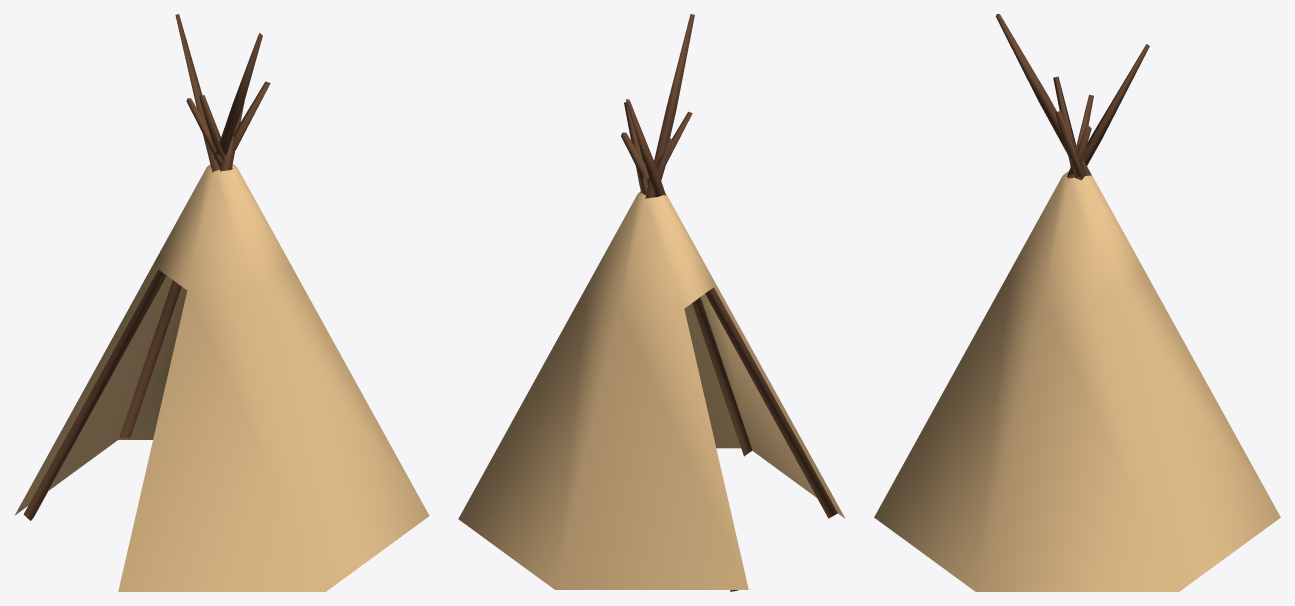
The model's file is SurvivalTipiV2.fbx.
3 views of the same model, side by side, from view 1: azimuth 30°, elevation 25°; view 2: azimuth 150°, elevation 25°; view 3: azimuth 270°, elevation 25° (orthographic). The views are drawn at different scales.
Visible parts, largest first — view 1: Cone, Cylinder.006, Cylinder.005, Cylinder.002; view 2: Cone, Cylinder.007, Cylinder.002, Cylinder.005; view 3: Cone, Cylinder.005, Cylinder.002, Cylinder.006.
Boxes of the visible parts, x1,y1,x2,y2 form: Cone: [14, 164, 429, 591]; Cylinder.006: [23, 81, 270, 520]; Cylinder.005: [119, 33, 262, 437]; Cylinder.002: [175, 14, 220, 172]; Cone: [458, 191, 845, 589]; Cylinder.007: [621, 132, 837, 518]; Cylinder.002: [626, 99, 752, 456]; Cylinder.005: [645, 14, 694, 198]; Cone: [874, 171, 1280, 591]; Cylinder.005: [996, 14, 1091, 175]; Cylinder.002: [1083, 44, 1149, 165]; Cylinder.006: [1055, 110, 1085, 179].
Bounding box in the file's own units: 3.13 × 4.99 × 3.61.
